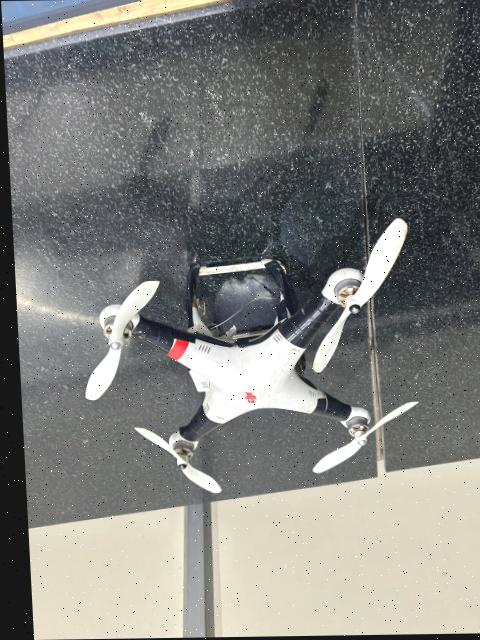drone: (55, 201, 420, 513)
